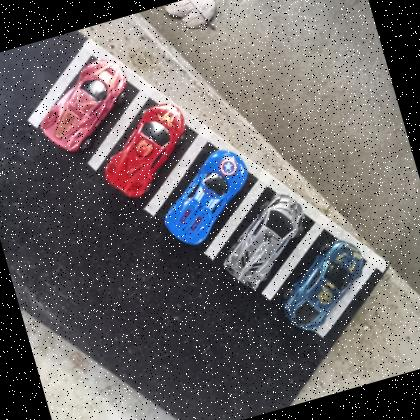Car: (148, 142, 263, 250), (25, 54, 142, 158), (210, 188, 320, 296), (90, 98, 201, 204), (269, 234, 378, 335)
